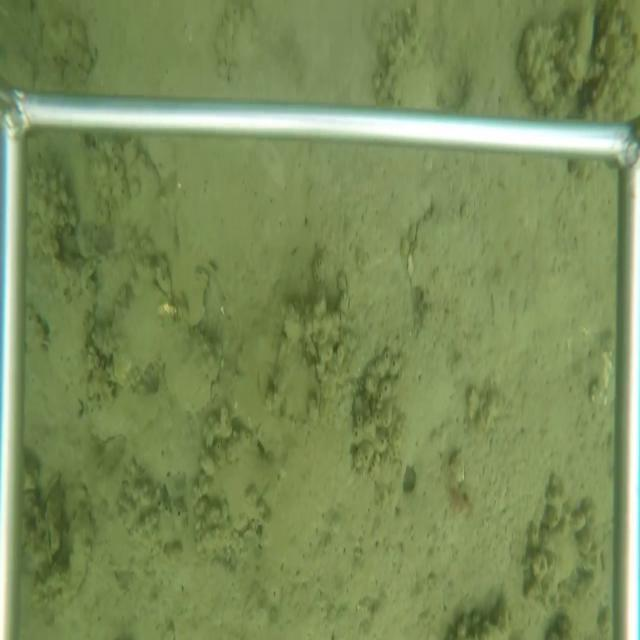Oyster-Closed: (43, 470, 64, 568)
Oyster-Indeterminate: (155, 297, 223, 416)
